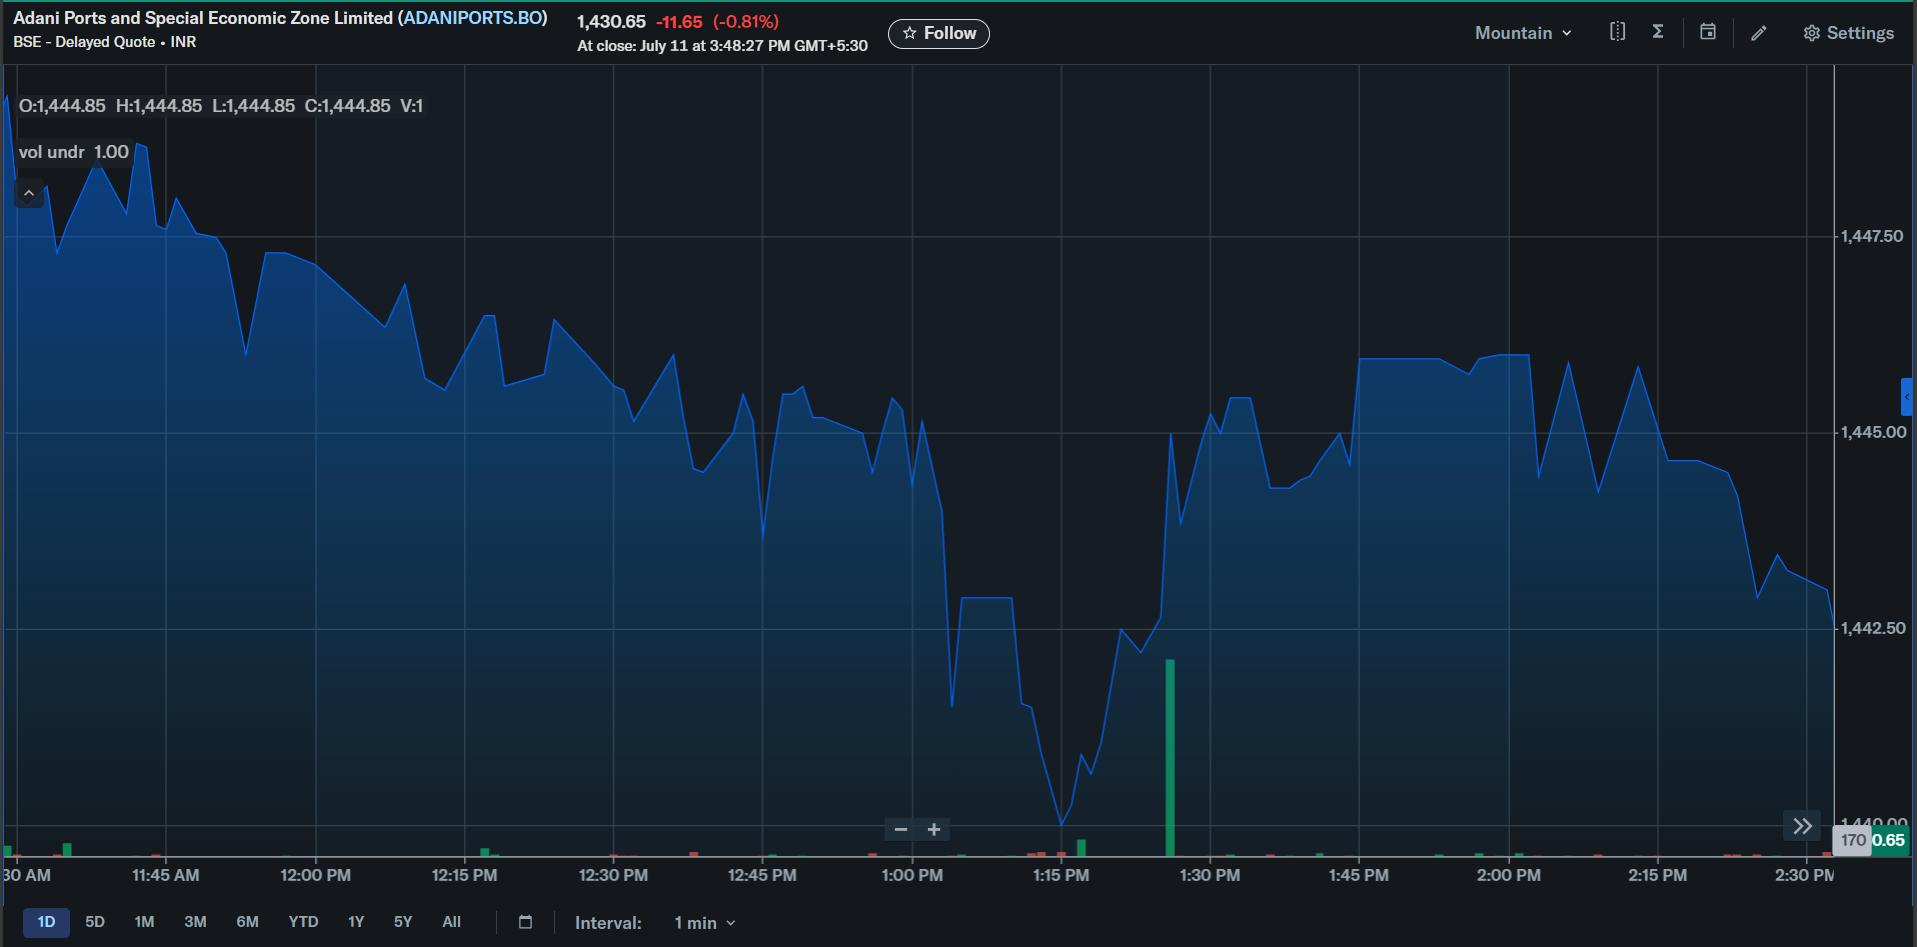Downtrend: (910, 341, 967, 732), (1004, 550, 1076, 835), (205, 197, 257, 385), (396, 250, 451, 422)
Sideways: (1342, 323, 1547, 401)
Uptrend: (1126, 374, 1185, 672), (756, 336, 798, 561), (1592, 342, 1643, 508)
